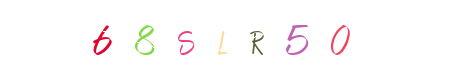0: (233, 0, 313, 80)
5: (216, 0, 296, 80)
6: (61, 0, 141, 80)
8: (112, 0, 192, 80)
L: (192, 0, 272, 80)
R: (214, 0, 294, 80)
S: (184, 0, 264, 80)
